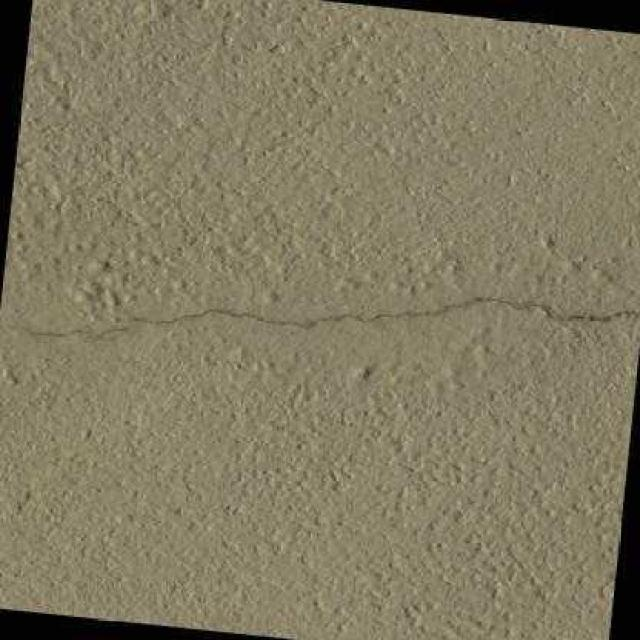D00: (0, 296, 640, 337)
